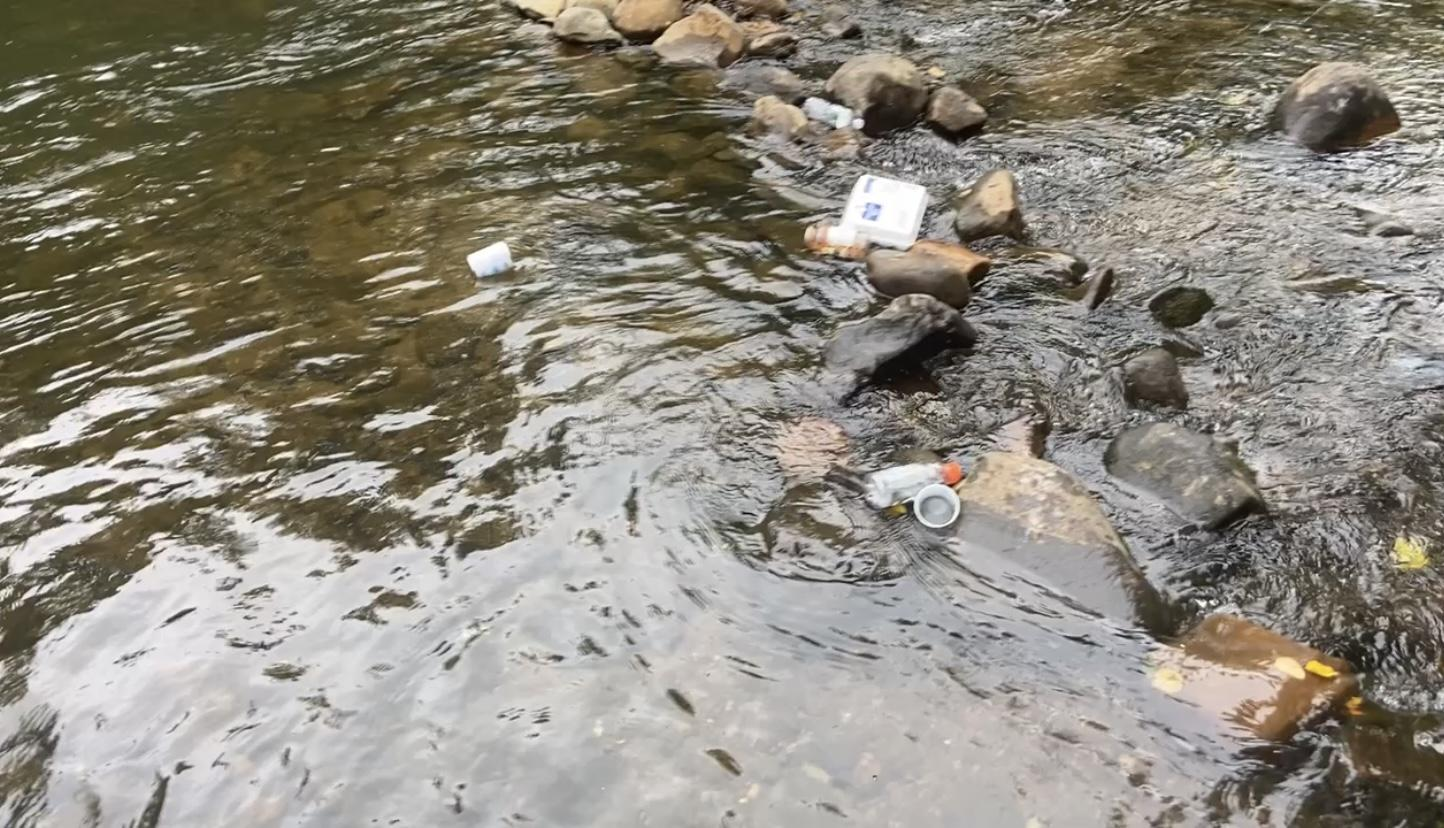glass: (798, 217, 877, 262)
metal: (465, 238, 523, 284)
plastic: (837, 167, 936, 256), (862, 456, 964, 515), (910, 477, 966, 531)
